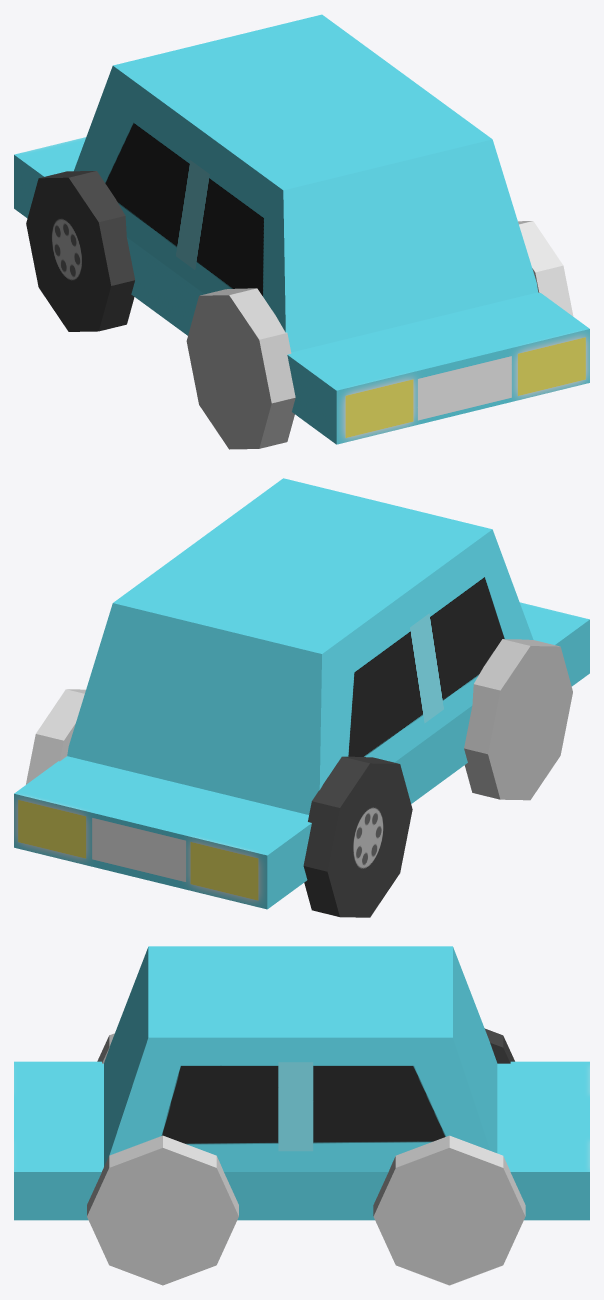
Rendered from car.fbx.
3 views of the same model, one above another, from view 1: azimuth 30°, elevation 25°; view 2: azimuth 150°, elevation 25°; view 3: azimuth 270°, elevation 25° (orthographic). The views are drawn at different scales.
Visible parts, largest first — view 1: Cube, Cylinder.003, Cylinder.002, Cylinder; view 2: Cube, Cylinder.002, Cylinder.003, Cylinder.001; view 3: Cube, Cylinder.001, Cylinder, Cylinder.002.
Part boxes in pixels (bbox=[...]): Cube: bbox=[14, 14, 589, 444]; Cylinder.003: bbox=[186, 288, 295, 449]; Cylinder.002: bbox=[26, 171, 134, 331]; Cylinder: bbox=[518, 221, 573, 316]; Cube: bbox=[14, 478, 589, 909]; Cylinder.002: bbox=[303, 756, 412, 917]; Cylinder.003: bbox=[464, 639, 572, 800]; Cylinder.001: bbox=[26, 689, 85, 784]; Cube: bbox=[14, 946, 589, 1220]; Cylinder.001: bbox=[373, 1135, 525, 1285]; Cylinder: bbox=[87, 1135, 238, 1285]; Cylinder.002: bbox=[484, 1028, 514, 1063].
Bounding box in the file's own units: 0.3375 × 0.2691 × 0.6198.
